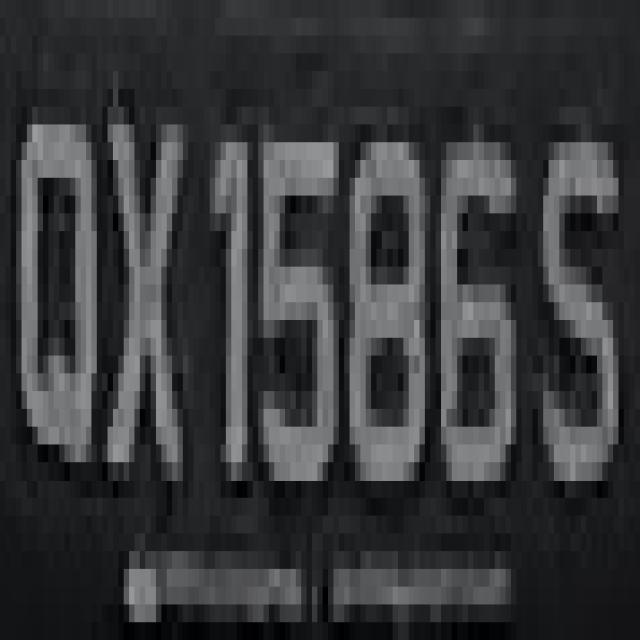1: (210, 18, 258, 498)
5: (242, 71, 350, 533)
6: (436, 71, 532, 533)
8: (338, 89, 436, 551)
Q: (11, 71, 102, 480)
S: (527, 124, 629, 498)
X: (108, 71, 194, 516)
